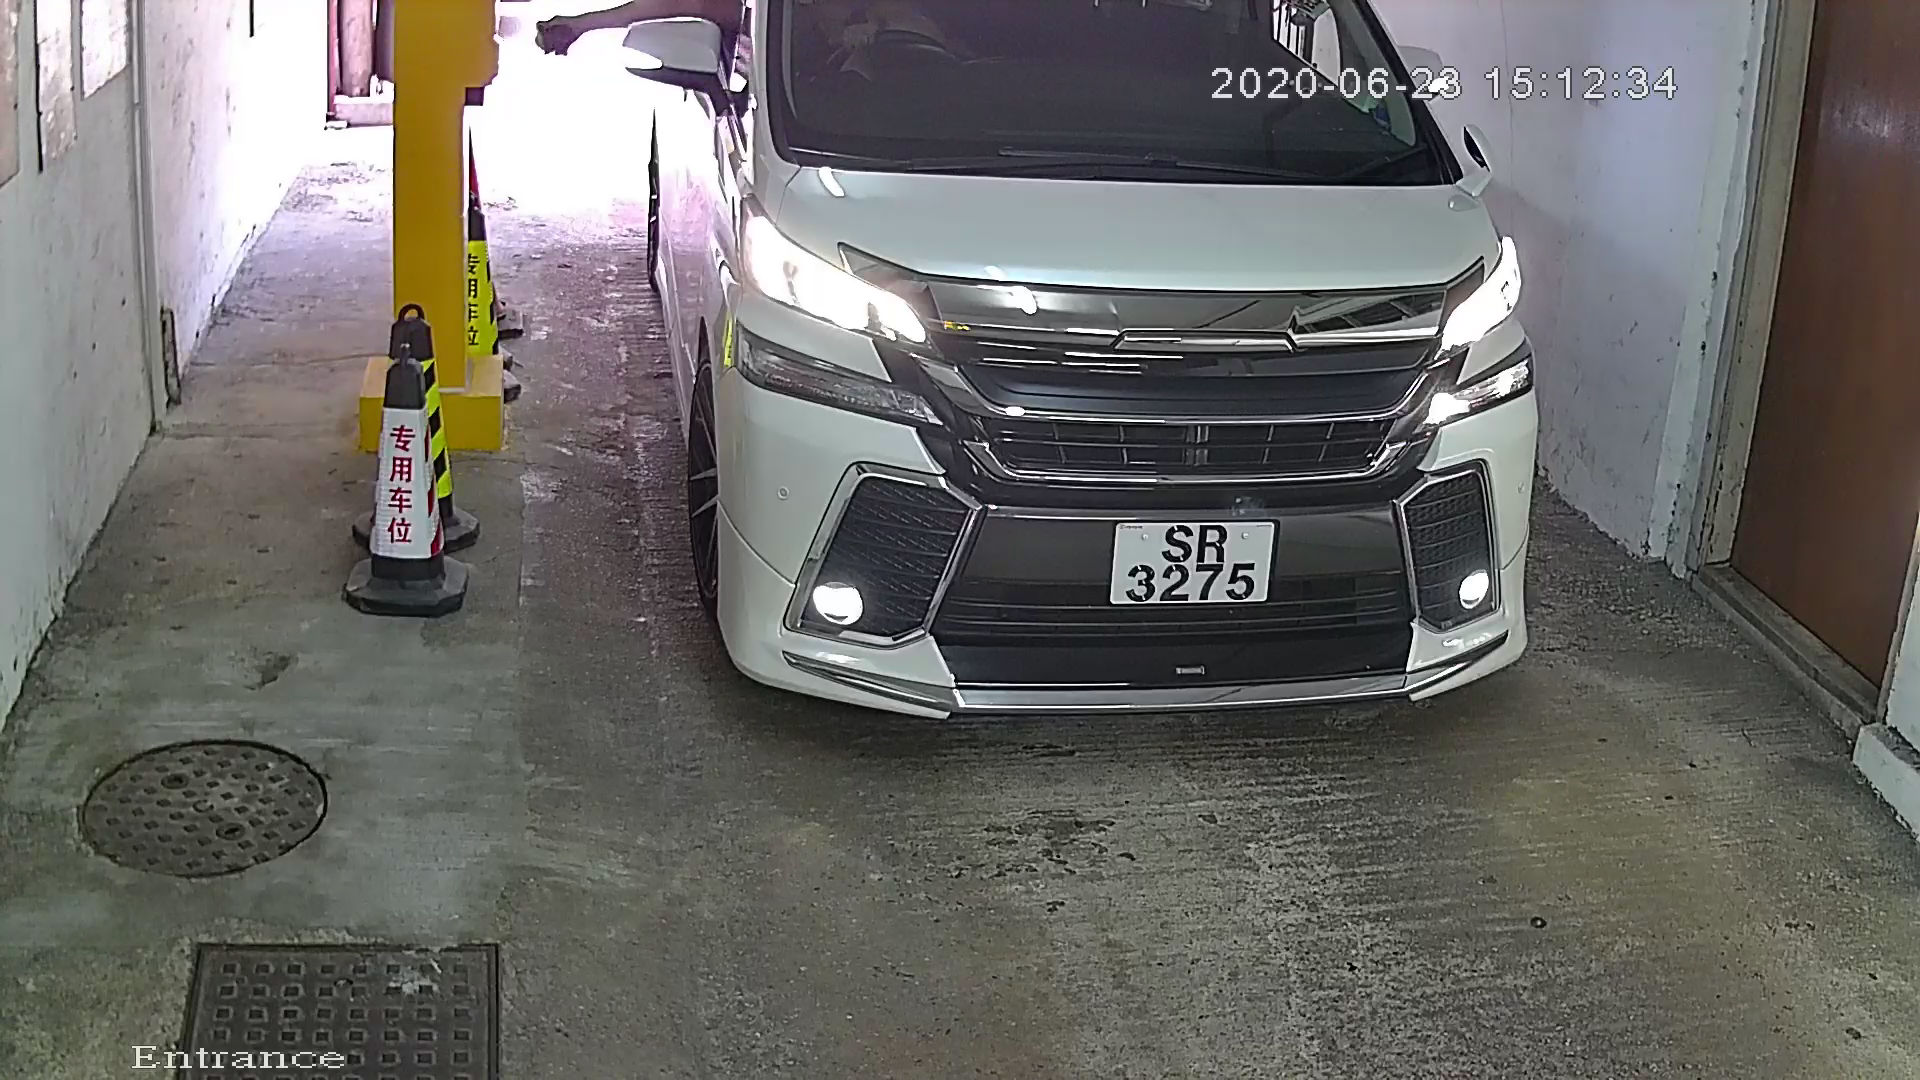privatecar: (618, 3, 1572, 767)
